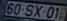0: (12, 3, 21, 16), (45, 6, 54, 19)
1: (54, 6, 59, 20)
6: (5, 1, 14, 14)
S: (23, 3, 34, 17)
X: (32, 4, 43, 18)
